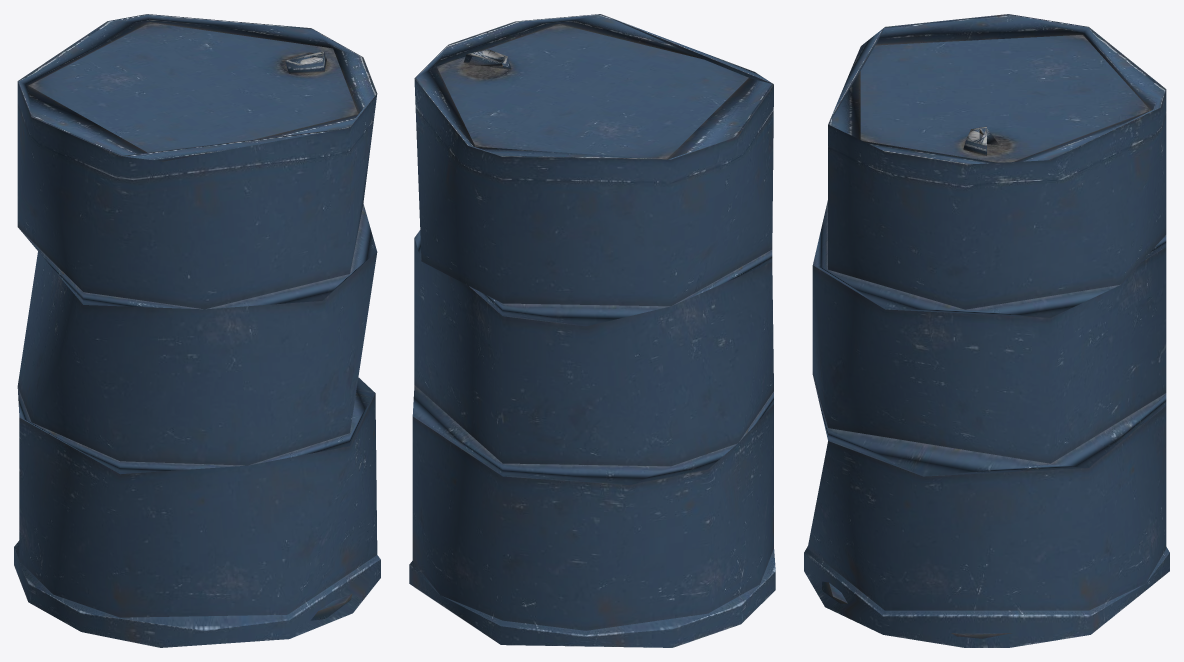
The model's file is barrel-lod.glb.
3 renders of one model, left to right at view 1: azimuth 30°, elevation 25°; view 2: azimuth 150°, elevation 25°; view 3: azimuth 270°, elevation 25°, orthographic.
Parts seen in each view (by area): view 1: barrel_03; view 2: barrel_03; view 3: barrel_03.
Part boxes in pixels (x1,y1,x2,y2): barrel_03: (14, 14, 380, 647); barrel_03: (409, 14, 775, 647); barrel_03: (804, 14, 1169, 647).
Bounding box in the file's own units: 0.6191 × 0.9163 × 0.6237.
1 material, 1 textured.
